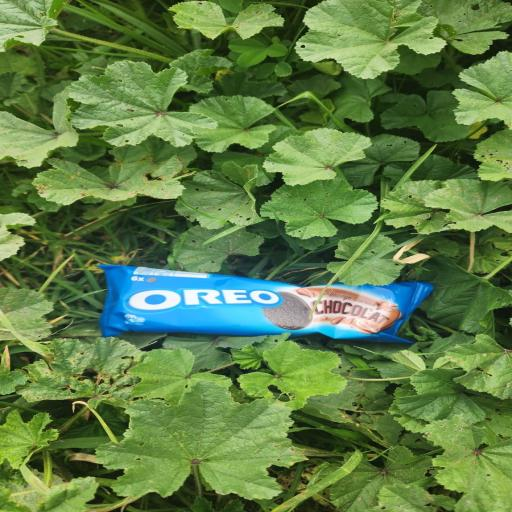oreo: (40, 207, 506, 430)
